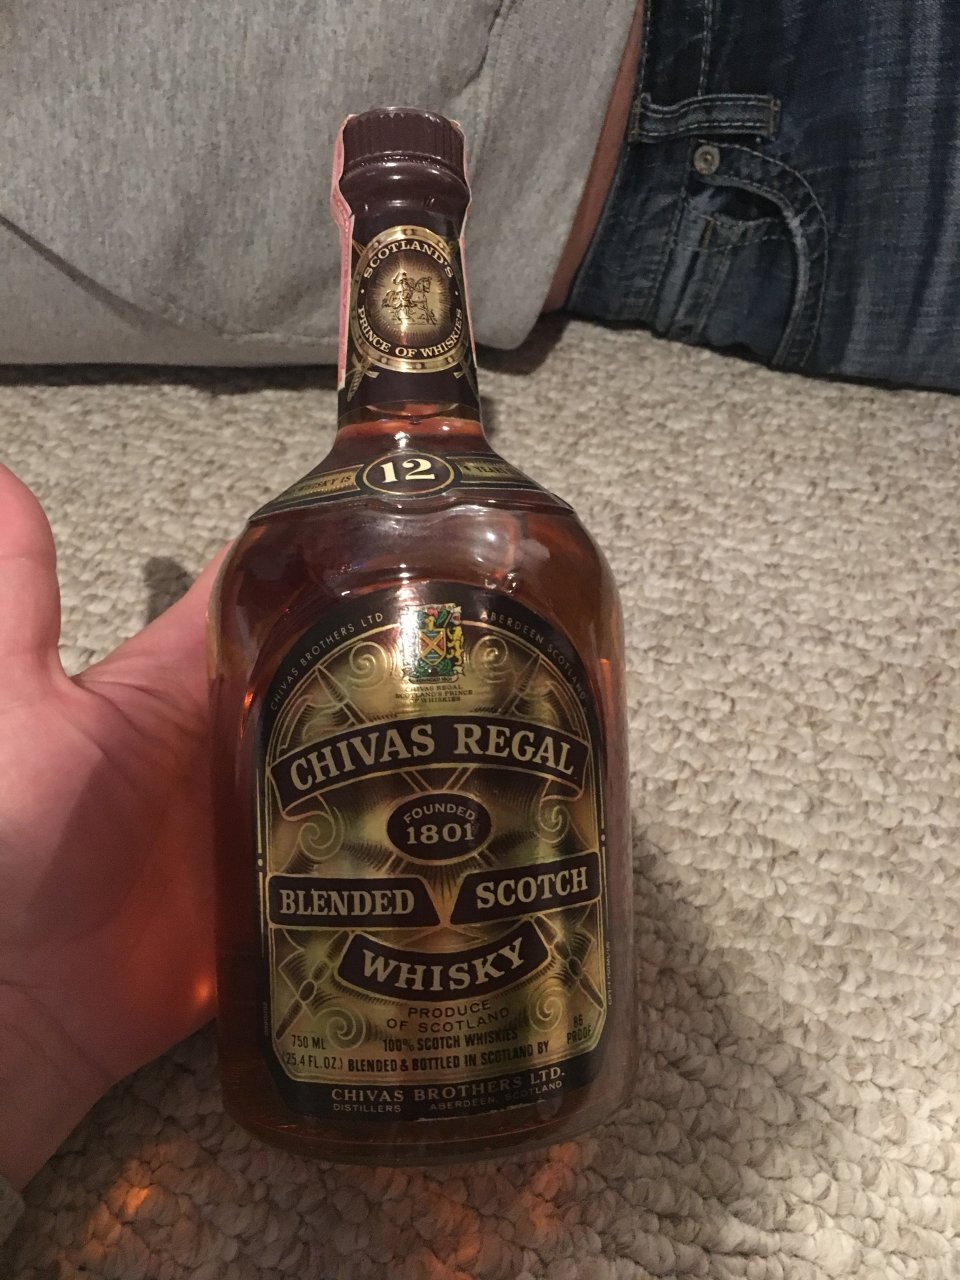Chivas Regal: (200, 101, 650, 1177)
